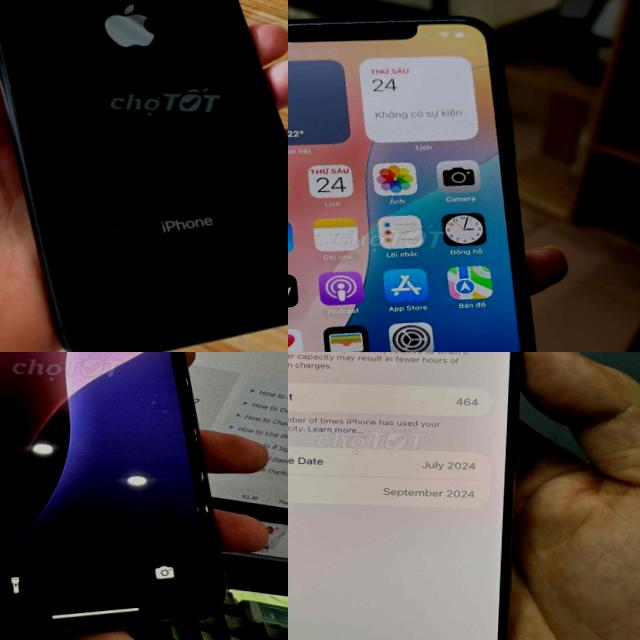gen_15: (288, 352, 534, 640)
gen_7_8: (0, 0, 288, 352)
gen_x_xs: (288, 7, 570, 352), (0, 352, 224, 639)
scratch: (74, 208, 130, 248), (148, 27, 182, 49), (122, 130, 154, 152), (130, 263, 155, 291), (40, 303, 70, 326)
